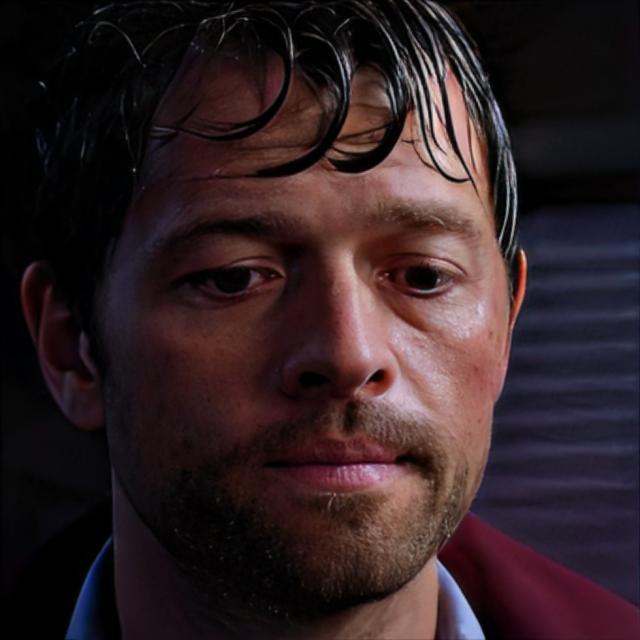neutral: (98, 52, 521, 628)
